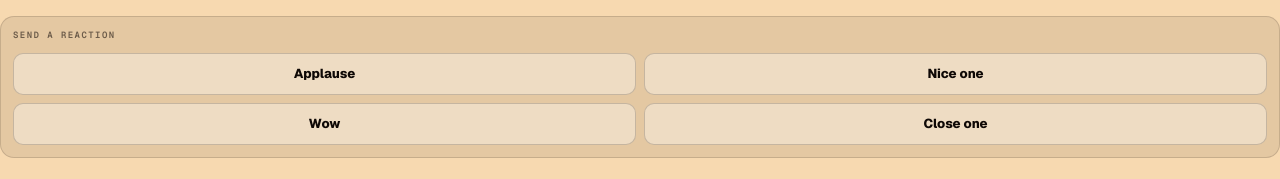
RoomMagicReactionControls › settles quietly when the post fails
This screenshot has width=1280, height=179.
Click the button "Nice one" at (956, 74), box [644, 52, 1267, 94]
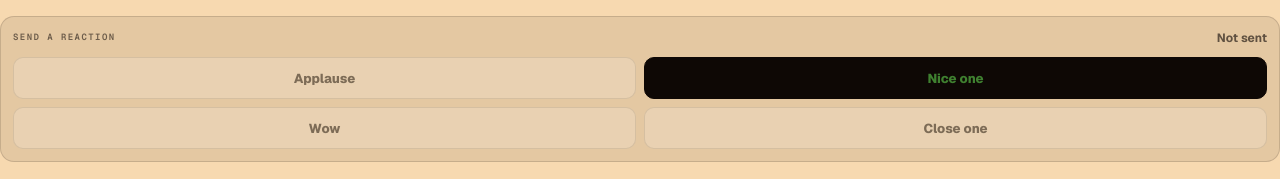
Expected: the text "Not sent" is shown, [1217, 30, 1267, 46]
Expected: the button "Applause" is disabled, [13, 57, 636, 99]
Expected: the button "Nice one" is disabled, [644, 57, 1267, 99]
